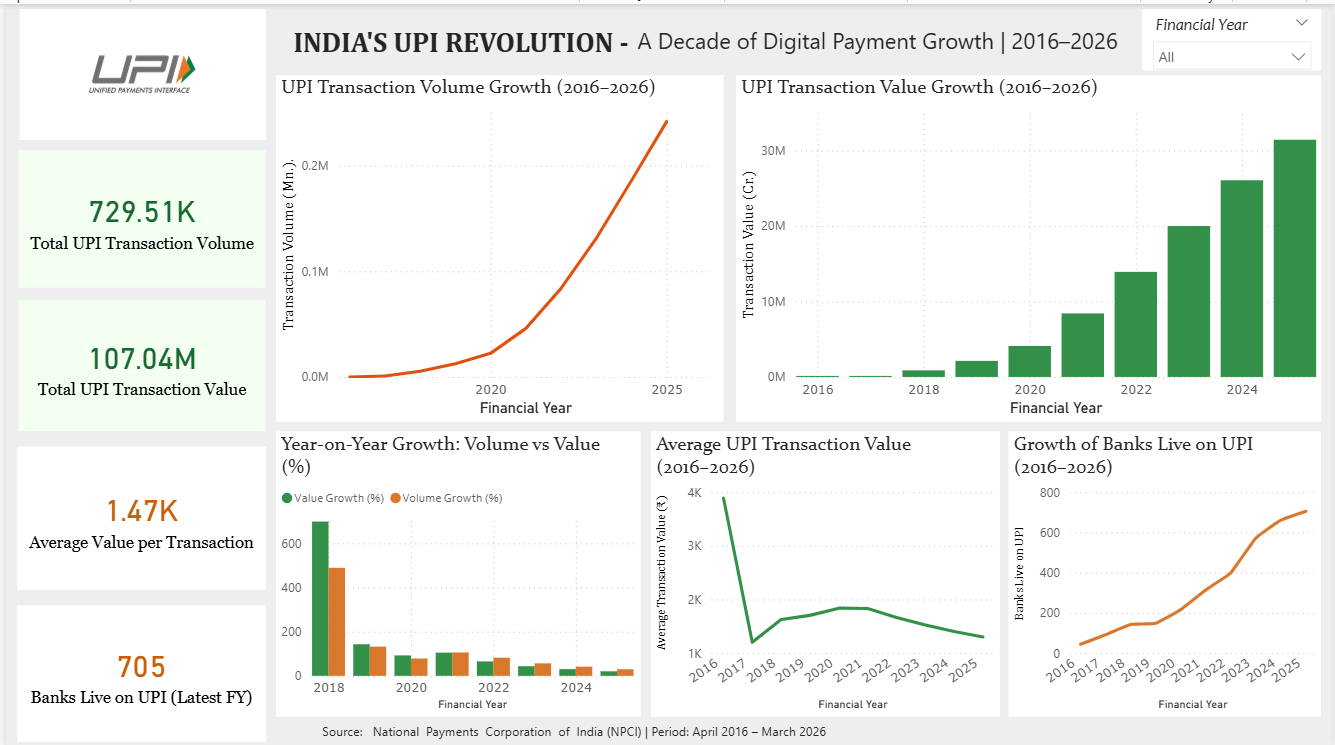

The dashboard page shown, as its layout file describes it:
{"tool":"powerbi","page":{"name":"Page 1","canvas":[1280,720],"ordinal":0},"visuals":[{"type":"card","fields":{"Values":["Yearly_UPI_Analysis.Total Transaction Value"]},"box":[11.6,286.5,238.7,126.5],"z":0},{"type":"card","fields":{"Values":["Yearly_UPI_Analysis.Total Transaction Volume"]},"box":[11.6,140.6,238.7,132.9],"z":1000},{"type":"card","fields":{"Values":["Yearly_UPI_Analysis.Average Transaction Value"]},"box":[10.3,427.1,240,138.1],"z":2000},{"type":"card","fields":{"Values":["Yearly_UPI_Analysis.Total Banks Live on UPI"]},"box":[10.3,580.6,240,131.6],"z":3000},{"type":"lineChart","title":"UPI Transaction Volume Growth (2016–2026)","fields":{"Category":["Yearly_UPI_Analysis.Financial Year"],"Y":["Sum(Yearly_UPI_Analysis.Transaction Volume (Mn.))"]},"box":[260.6,68.4,432.3,334.2],"z":4000},{"type":"clusteredColumnChart","title":"UPI Transaction Value Growth (2016–2026)","fields":{"Category":["Yearly_UPI_Analysis.Financial Year"],"Y":["Sum(Yearly_UPI_Analysis.Transaction Value (Cr.))"]},"box":[704.5,68.4,565.2,334.2],"z":5000},{"type":"clusteredColumnChart","title":"Year-on-Year Growth: Volume vs Value (%)","fields":{"Category":["Yearly_UPI_Analysis.Financial Year"],"Y":["Avg(Yearly_UPI_Analysis.Value Growth (%))","Avg(Yearly_UPI_Analysis.Volume Growth (%))"]},"box":[260.6,412.9,352.3,274.8],"z":6000},{"type":"lineChart","title":"Average UPI Transaction Value (2016–2026)","fields":{"Category":["Yearly_UPI_Analysis.Financial Year"],"Y":["Avg(Yearly_UPI_Analysis.Average Transaction Value (Rs.))"]},"box":[621.9,412.9,336.8,274.8],"z":7000},{"type":"lineChart","title":"Growth of Banks Live on UPI (2016–2026)","fields":{"Category":["Yearly_UPI_Analysis.Financial Year"],"Y":["Max(Yearly_UPI_Analysis.Banks Live on UPI)"]},"box":[967.7,412.9,301.9,274.8],"z":8000},{"type":"image","box":[12.9,5.2,237.4,126.5],"z":9000},{"type":"textbox","box":[260.6,15.5,398.7,52.9],"z":10000},{"type":"textbox","box":[604.3,15.2,479.8,53.1],"z":11000},{"type":"slicer","fields":{"Values":["Yearly_UPI_Analysis.Financial Year"]},"box":[1096.3,4.6,173.1,59.2],"z":11001},{"type":"textbox","box":[250.3,687.7,606.5,32.3],"z":11002}]}

Visuals, with their boxes in screenshot pixels (x1, y1, x2, y2), scaled from the page's 1280x720 canvas onto the 1335x745 screenshot:
card - Yearly_UPI_Analysis.Total Transaction Value: {"left": 12, "top": 296, "right": 261, "bottom": 427}
card - Yearly_UPI_Analysis.Total Transaction Volume: {"left": 12, "top": 145, "right": 261, "bottom": 283}
card - Yearly_UPI_Analysis.Average Transaction Value: {"left": 11, "top": 442, "right": 261, "bottom": 585}
card - Yearly_UPI_Analysis.Total Banks Live on UPI: {"left": 11, "top": 601, "right": 261, "bottom": 737}
"UPI Transaction Volume Growth (2016–2026)" lineChart: {"left": 272, "top": 71, "right": 723, "bottom": 417}
"UPI Transaction Value Growth (2016–2026)" clusteredColumnChart: {"left": 735, "top": 71, "right": 1324, "bottom": 417}
"Year-on-Year Growth: Volume vs Value (%)" clusteredColumnChart: {"left": 272, "top": 427, "right": 639, "bottom": 712}
"Average UPI Transaction Value (2016–2026)" lineChart: {"left": 649, "top": 427, "right": 1000, "bottom": 712}
"Growth of Banks Live on UPI (2016–2026)" lineChart: {"left": 1009, "top": 427, "right": 1324, "bottom": 712}
image: {"left": 13, "top": 5, "right": 261, "bottom": 136}
textbox: {"left": 272, "top": 16, "right": 688, "bottom": 71}
textbox: {"left": 630, "top": 16, "right": 1131, "bottom": 71}
slicer - Yearly_UPI_Analysis.Financial Year: {"left": 1143, "top": 5, "right": 1324, "bottom": 66}
textbox: {"left": 261, "top": 712, "right": 894, "bottom": 744}
